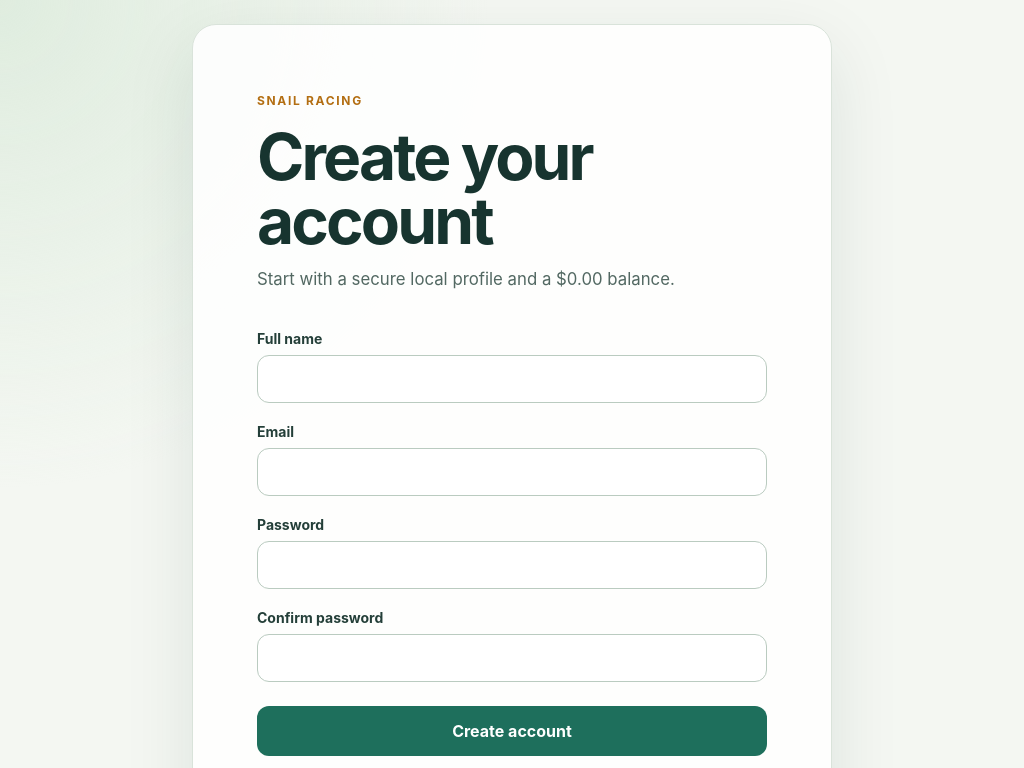
RegisterPage › registers a user with a hashed password and zero balance
Type "Ada Caracol" into the field labelled "Full name". click: [512, 378]
box: top-left (257, 354), bottom-right (767, 402)
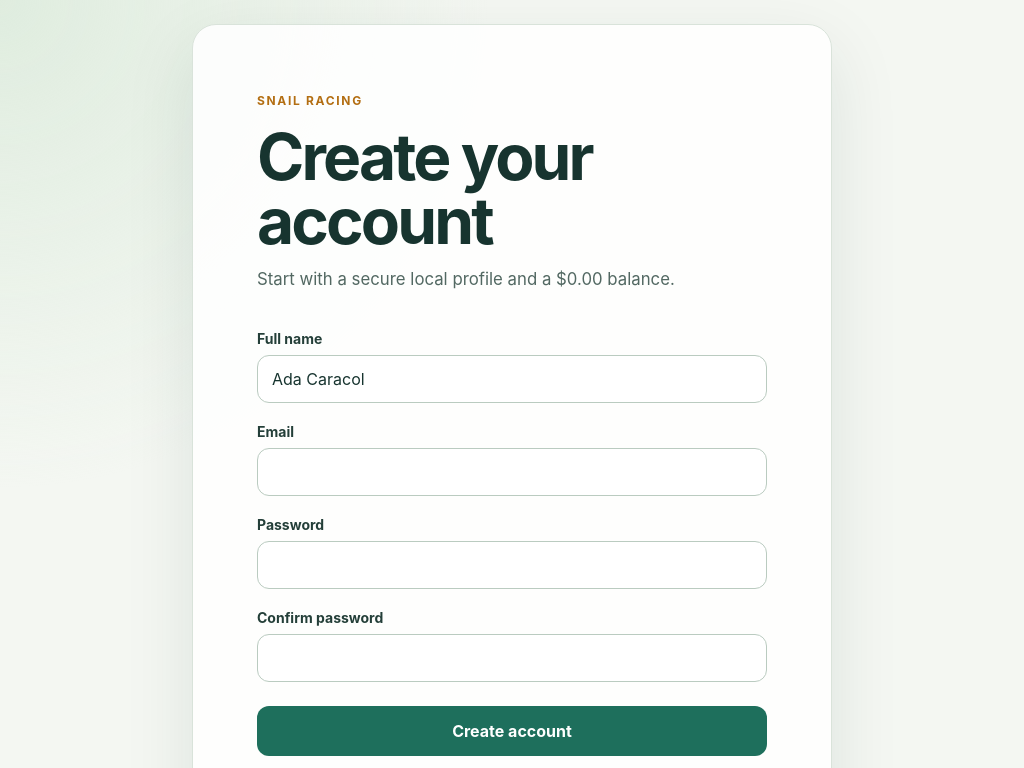
Type "ADA@EXAMPLE.COM" into the field labelled "Email". click: [512, 472]
box: top-left (257, 448), bottom-right (767, 496)
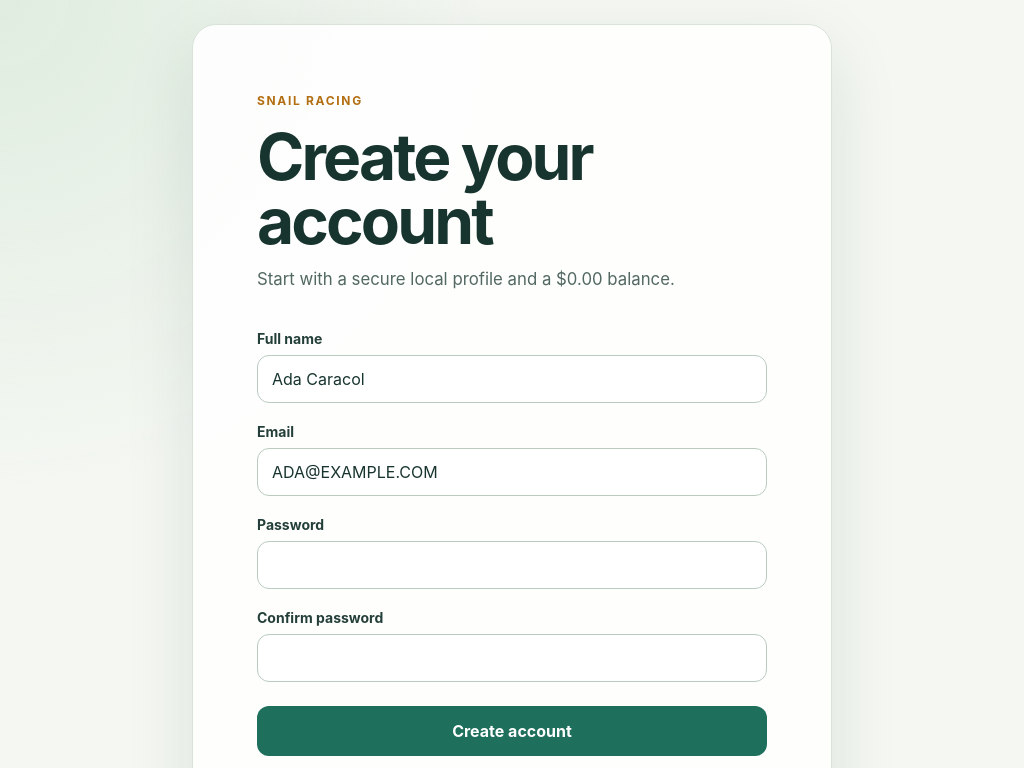
Type "Caracol123" into the password field labelled "Password". click: [512, 564]
box: top-left (257, 540), bottom-right (767, 588)
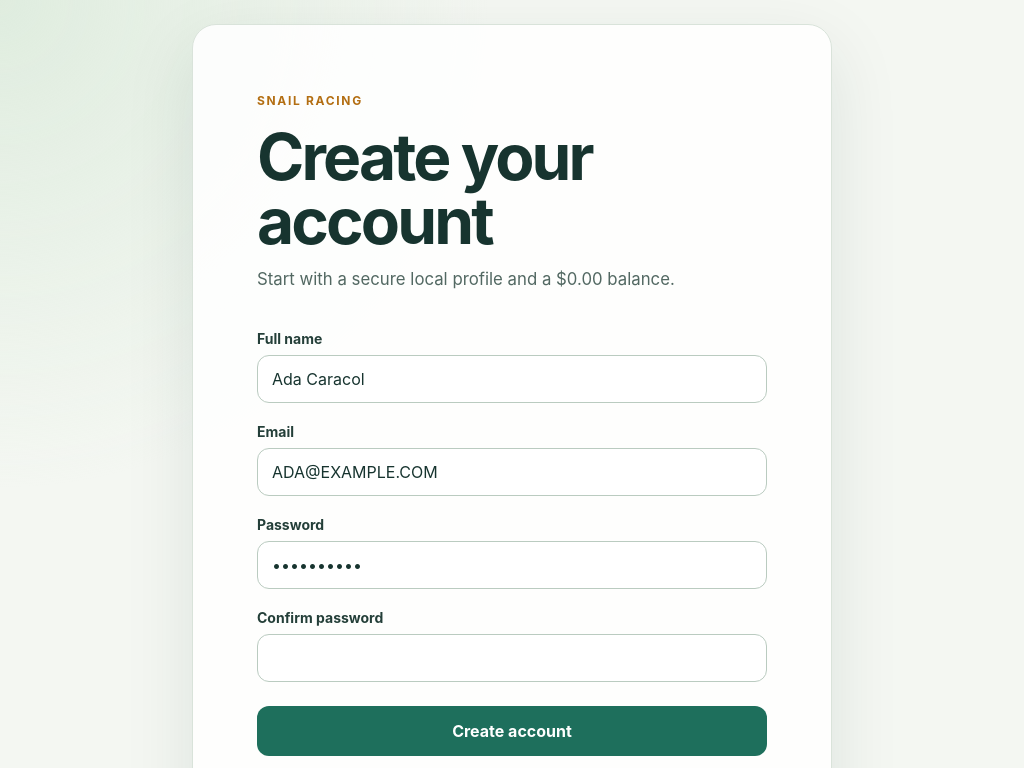
Type "Caracol123" into the password field labelled "Confirm password". click: [512, 658]
box: top-left (257, 634), bottom-right (767, 682)
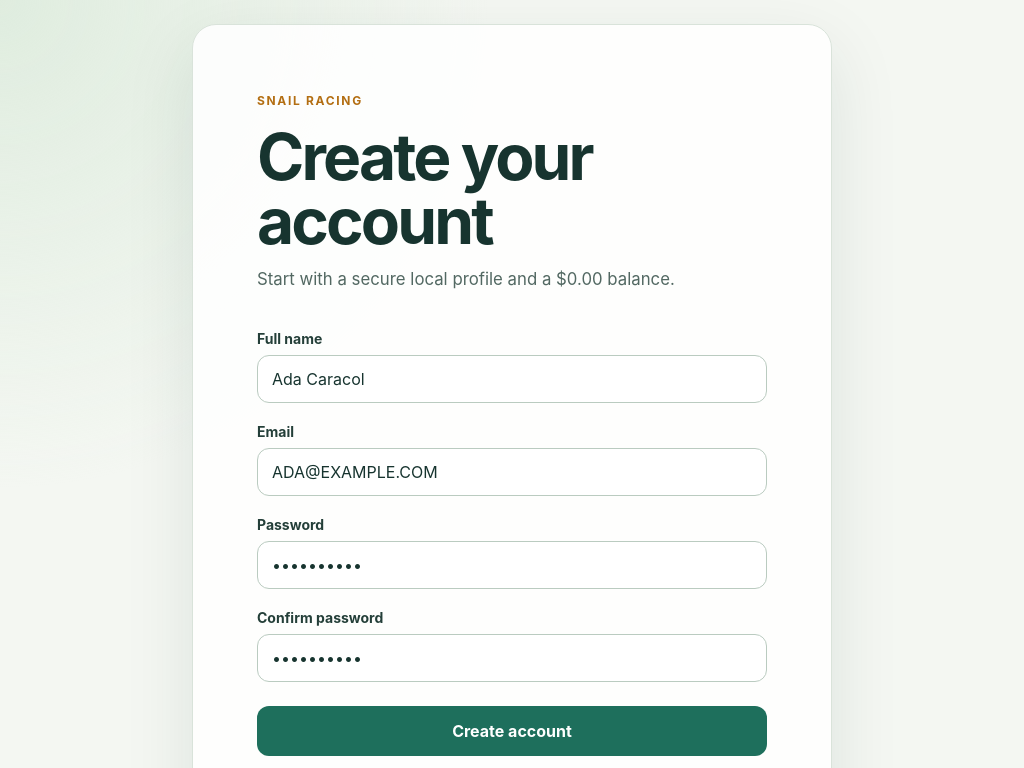
Click the button "Create account". click: [512, 730]
box: top-left (257, 706), bottom-right (767, 756)
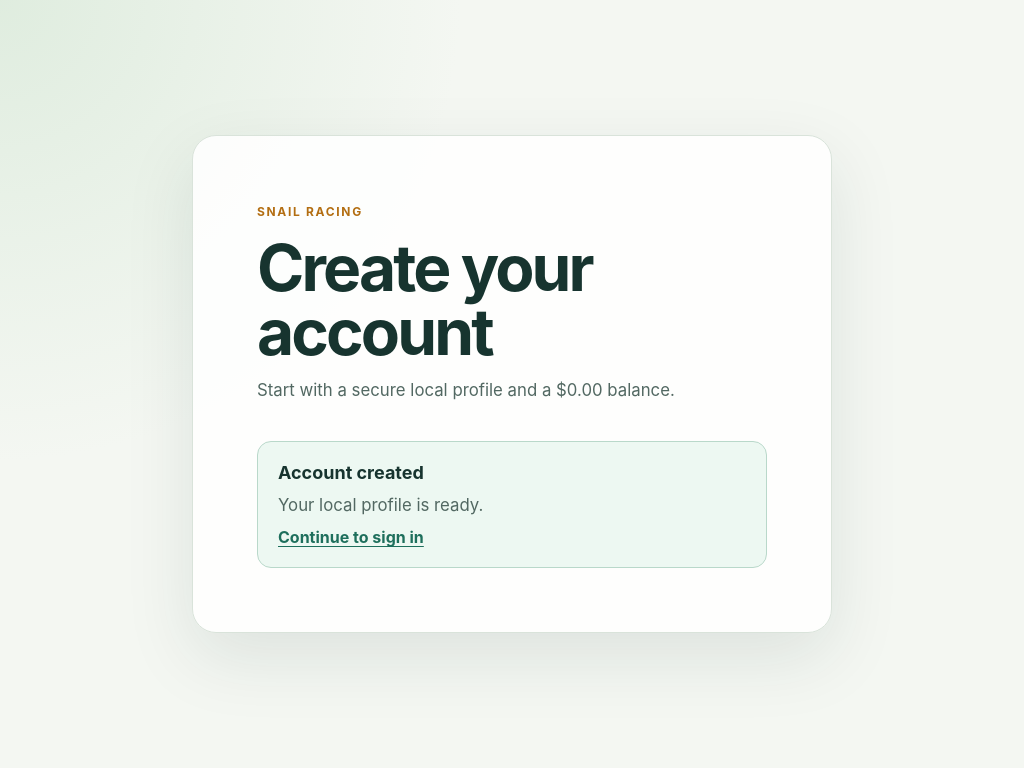
Result: the text "Account created" is shown at top-left (278, 462), bottom-right (424, 482)
